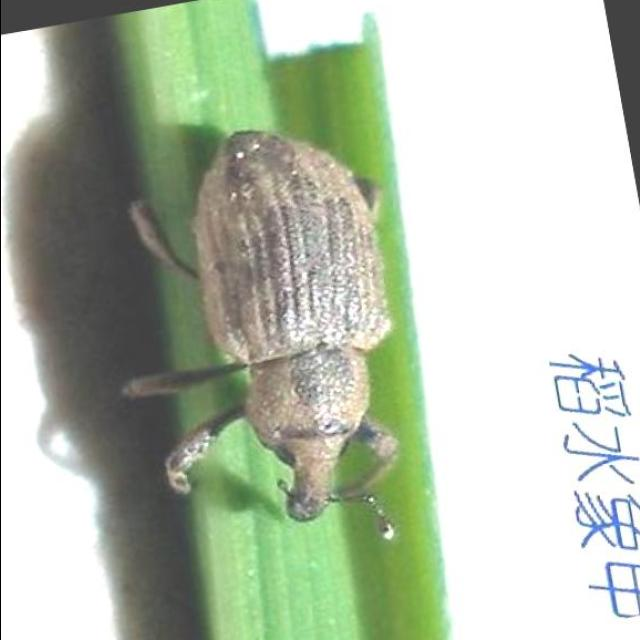ricebug: (123, 131, 396, 538)
